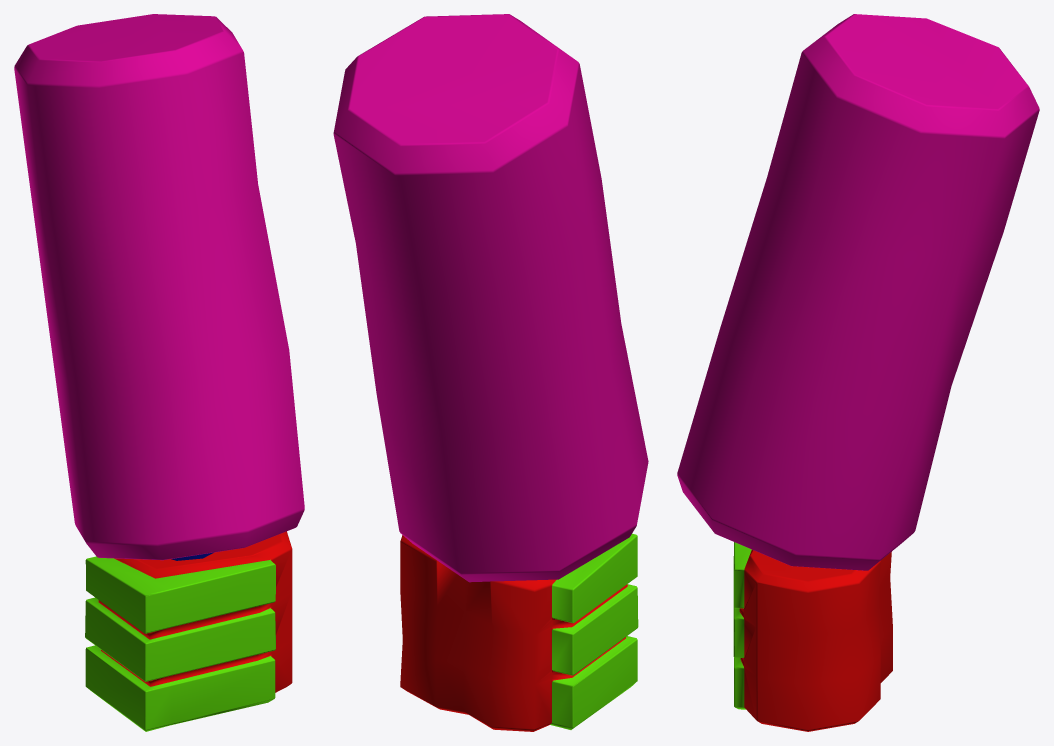
Rendered from Boiler_lp.FBX.
The picture shows the model from 3 angles, left to right: view 1: azimuth 30°, elevation 25°; view 2: azimuth 150°, elevation 25°; view 3: azimuth 270°, elevation 25°; orthographic projection. The views are drawn at different scales.
Visible parts, largest first — view 1: boiler; view 2: boiler; view 3: boiler.
Part boxes in pixels (x1,y1,x2,y2): boiler: (14,14,304,731); boiler: (333,14,648,731); boiler: (677,14,1039,731).
Bounding box in the file's own units: 171 × 484 × 245.
